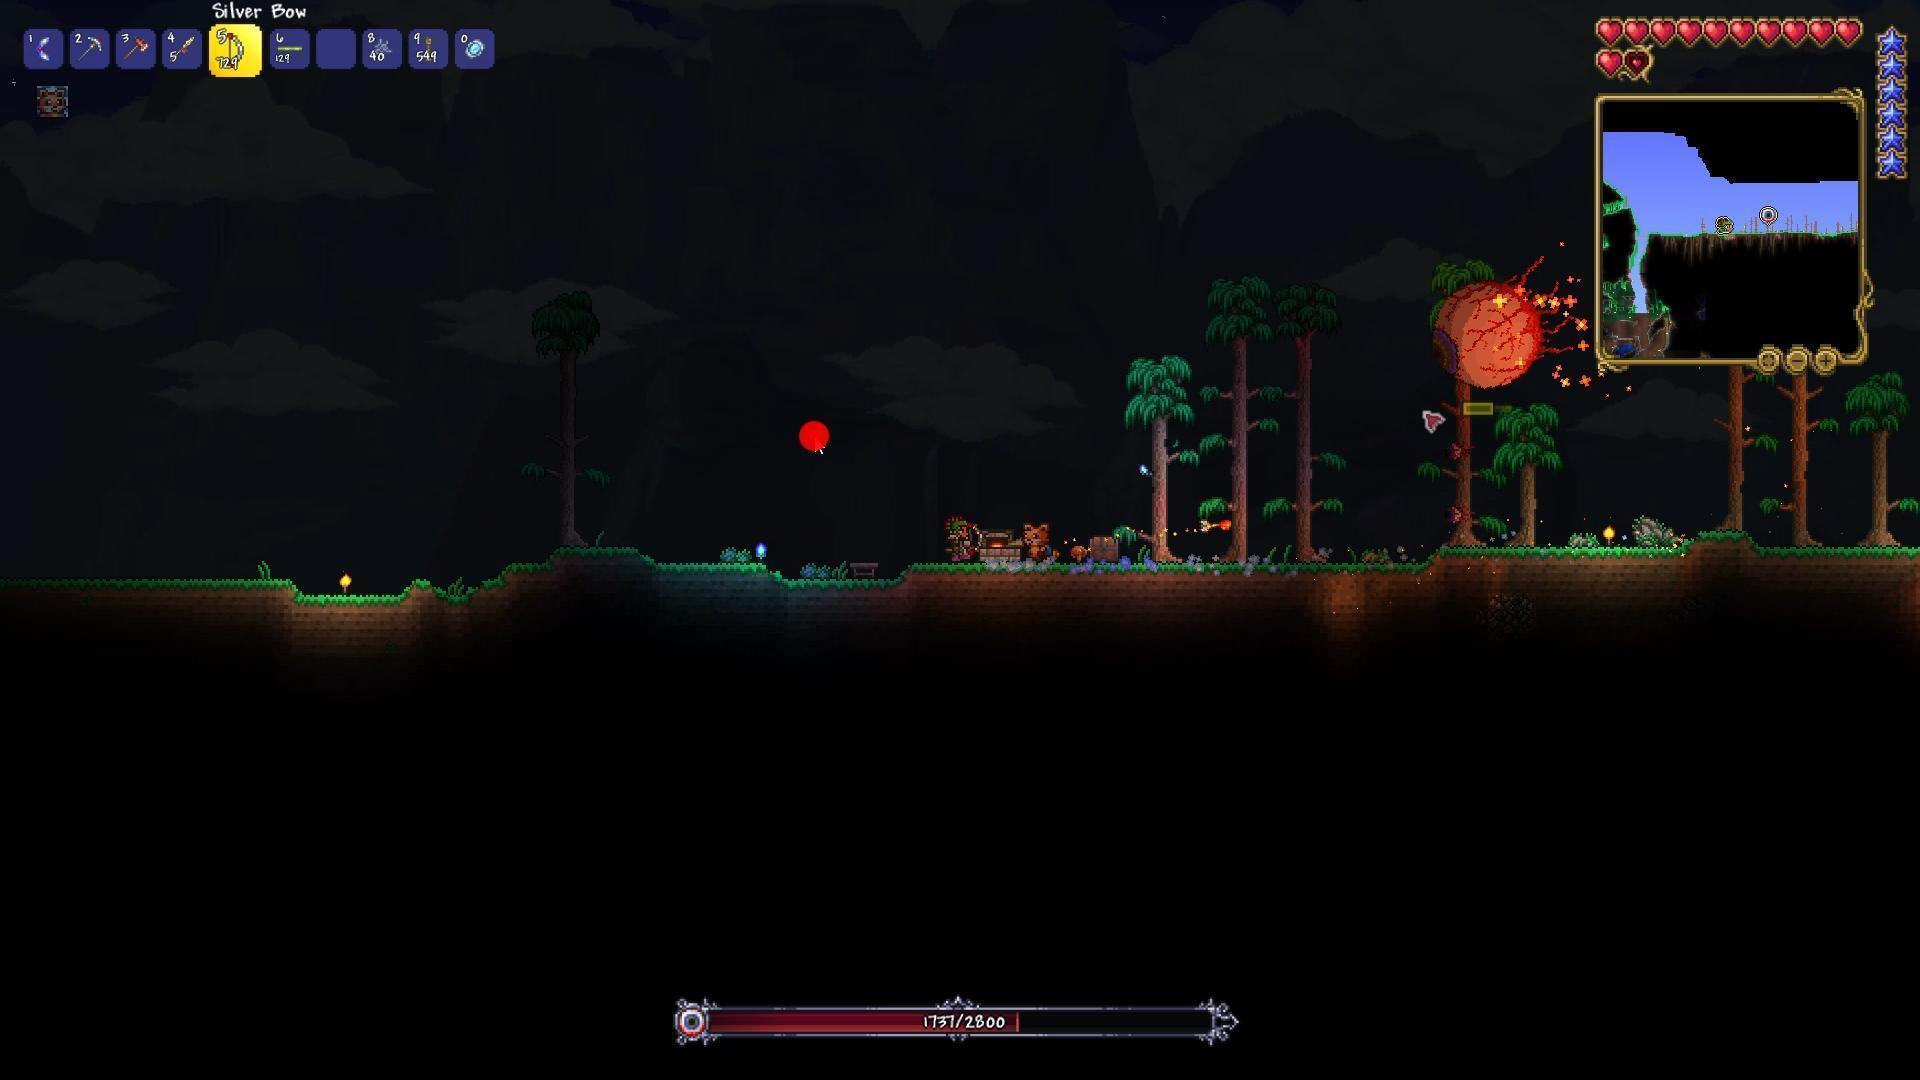axe: (121, 36, 152, 58)
chest: (1080, 526, 1130, 562)
cobwebI: (369, 37, 393, 62)
eye: (1425, 495, 1484, 531), (1435, 433, 1478, 469)
eyeC: (1411, 248, 1609, 397)
furnace: (971, 517, 1033, 574)
torchT: (1605, 517, 1619, 546)
tree: (1118, 343, 1205, 580), (1756, 363, 1844, 570), (1491, 393, 1571, 576), (1698, 355, 1764, 574), (1847, 367, 1920, 564)
